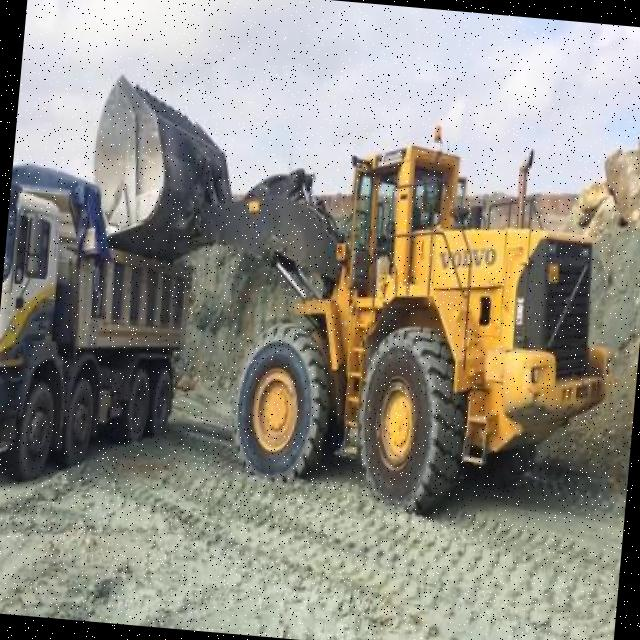Dump Truck: (0, 159, 199, 489)
Loader: (66, 72, 630, 528)
